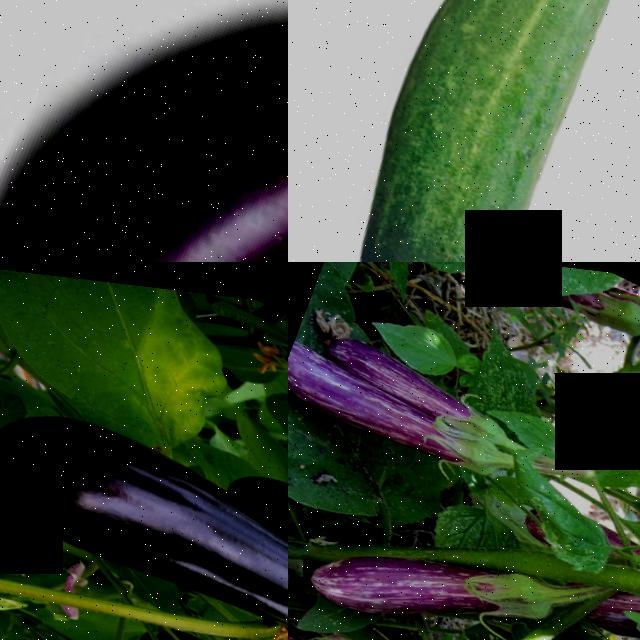cucumber: (298, 0, 640, 262)
eggplant: (0, 377, 288, 640), (0, 0, 288, 262), (303, 481, 556, 640), (288, 337, 508, 490), (315, 322, 514, 441), (230, 450, 288, 589)
